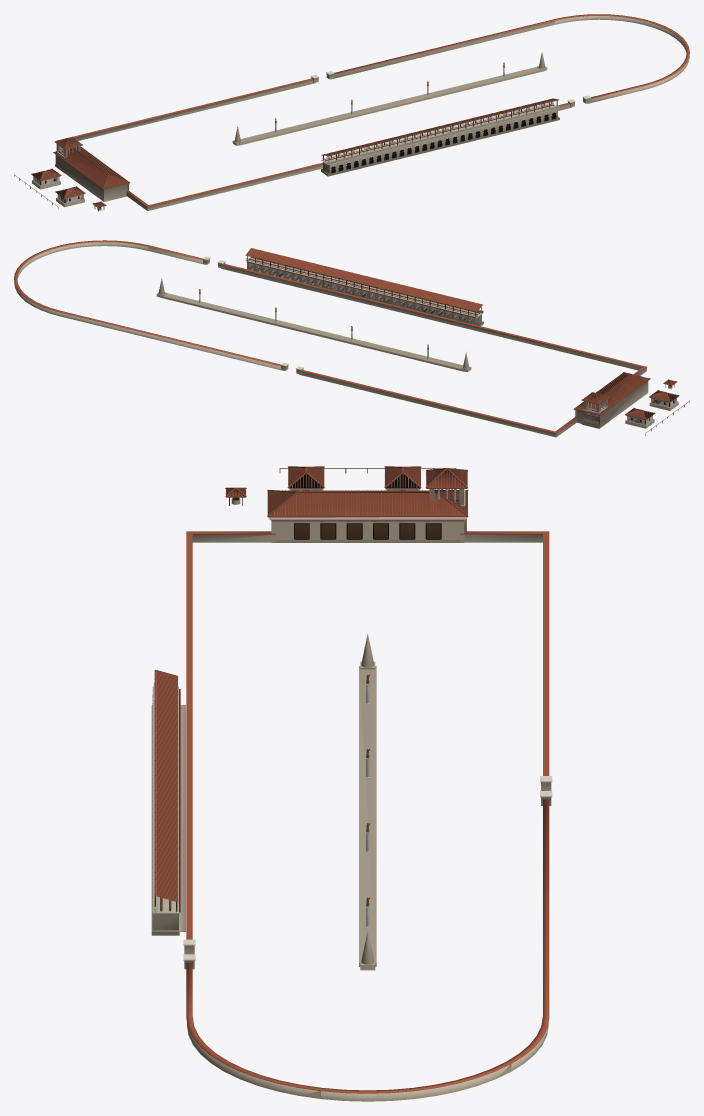
File: rome_trigarium.glb
The picture shows the model from 3 angles, top to bottom: view 1: azimuth 30°, elevation 25°; view 2: azimuth 150°, elevation 25°; view 3: azimuth 270°, elevation 25°; orthographic projection. The views are drawn at different scales.
Visible parts, largest first — view 1: rome_trigarium; view 2: rome_trigarium; view 3: rome_trigarium.
Boxes of the visible parts, <box> form: rome_trigarium: <box>14,14,689,211</box>; rome_trigarium: <box>14,240,689,437</box>; rome_trigarium: <box>151,466,552,1101</box>.
Size of the model in its own units: 337 by 15.16 by 91.2.
